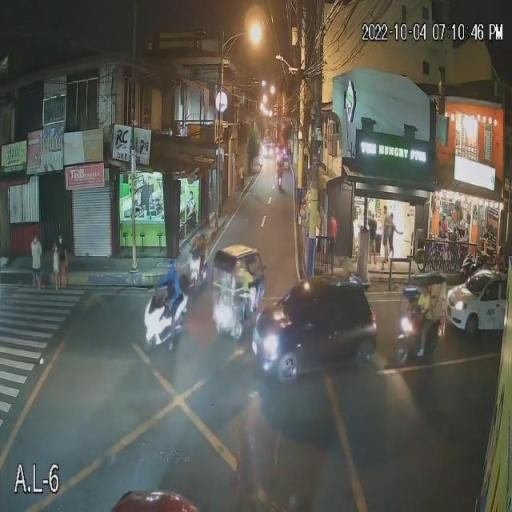helmet: (188, 252, 210, 287), (161, 257, 179, 280)
motorcycle: (133, 284, 191, 358)
rider: (152, 273, 180, 354)
